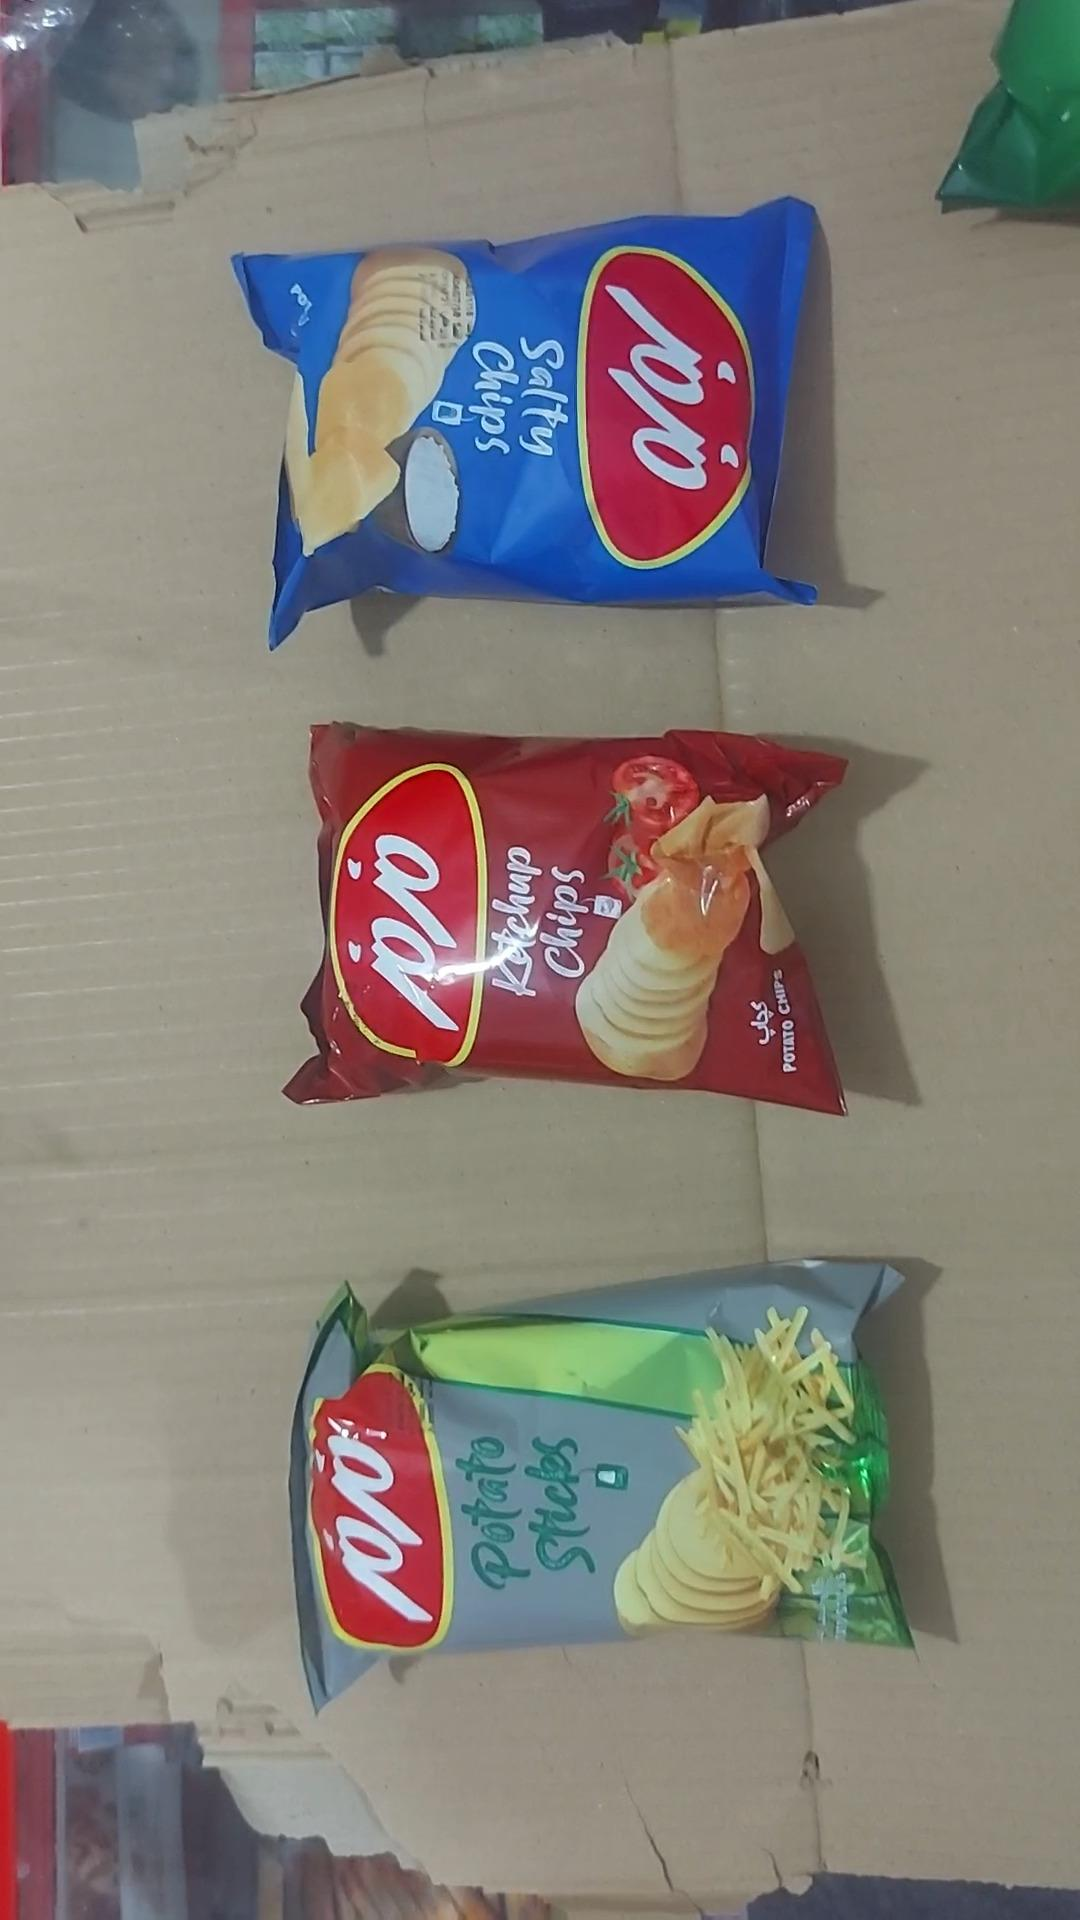Maz Maz ketchup chips: (281, 723, 851, 1118)
Maz Maz potato sticks: (286, 1261, 915, 1718)
Maz Maz salty chips: (229, 198, 823, 651)
